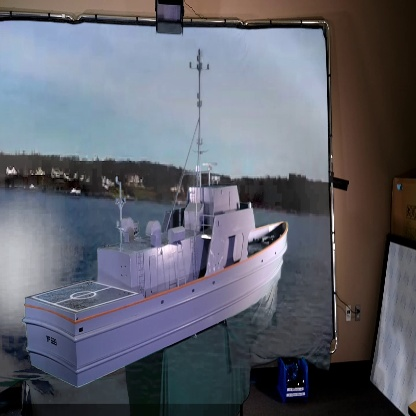YP689: (18, 51, 292, 389)
